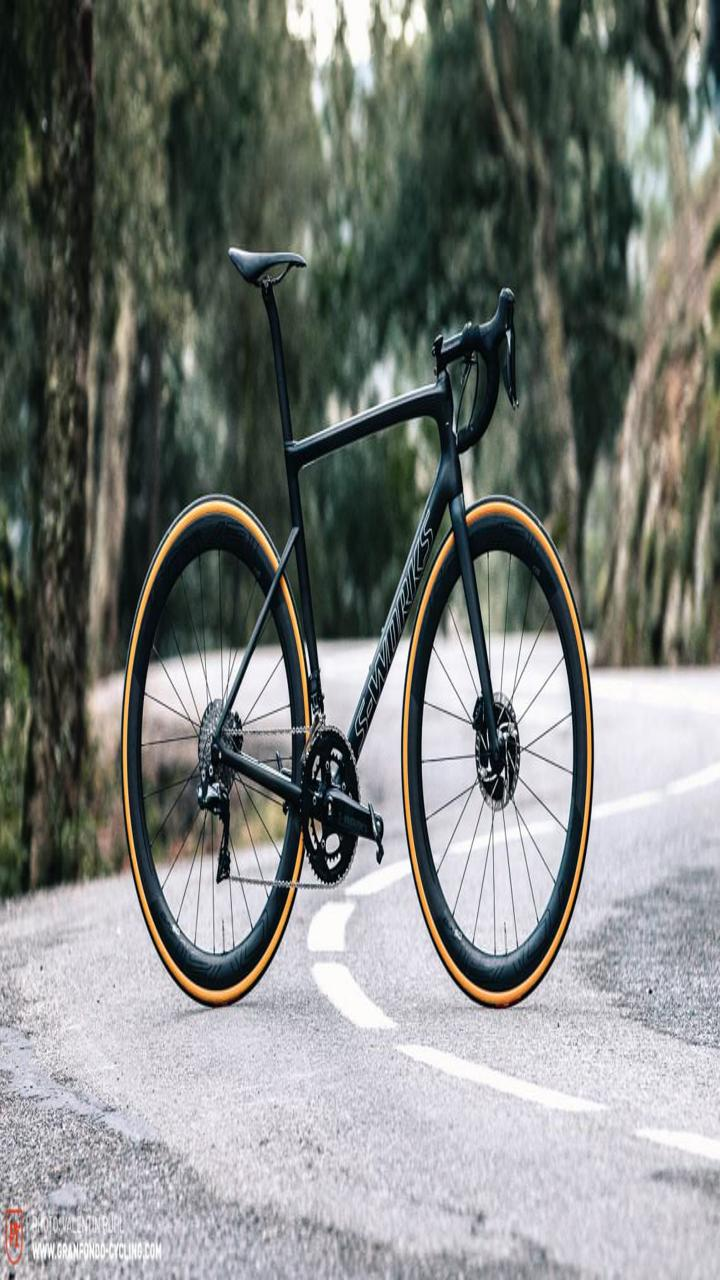cyclist: (62, 204, 652, 1016)
